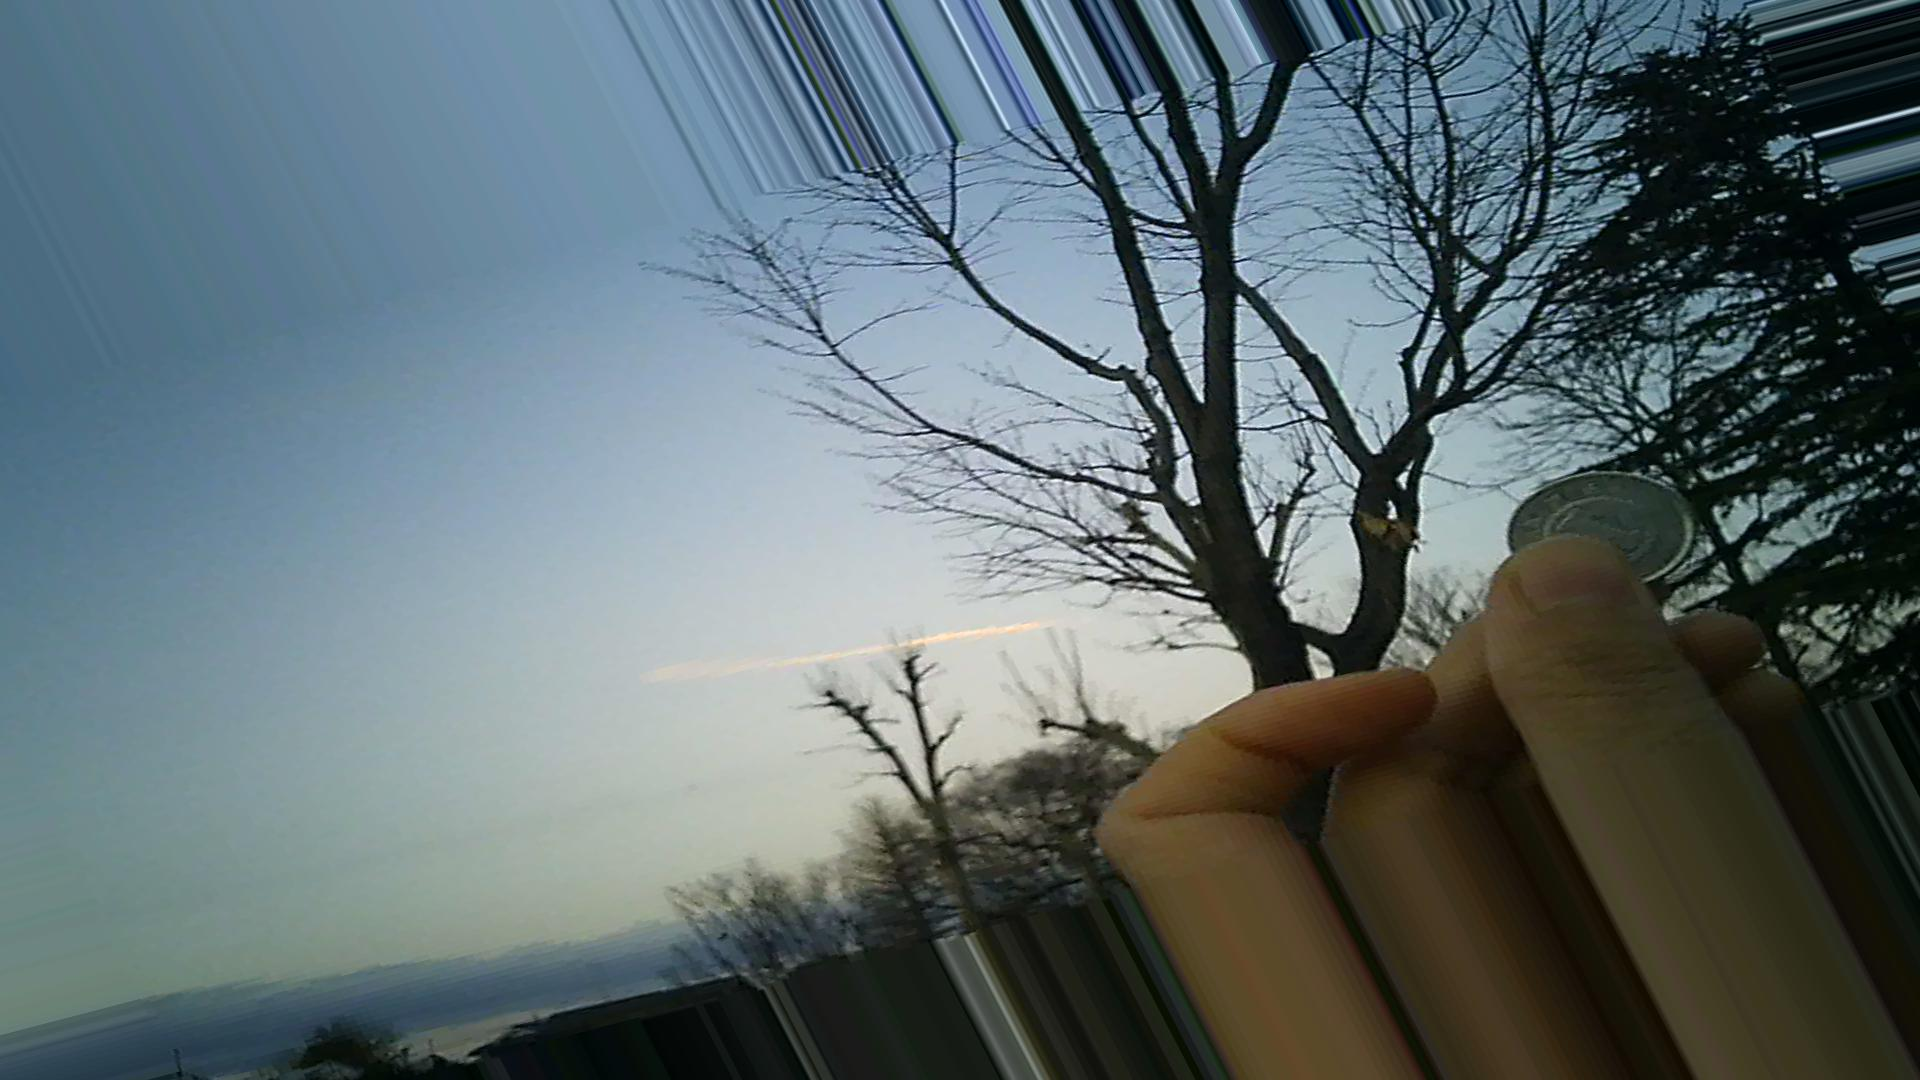1 Yen: (1498, 460, 1705, 582)
